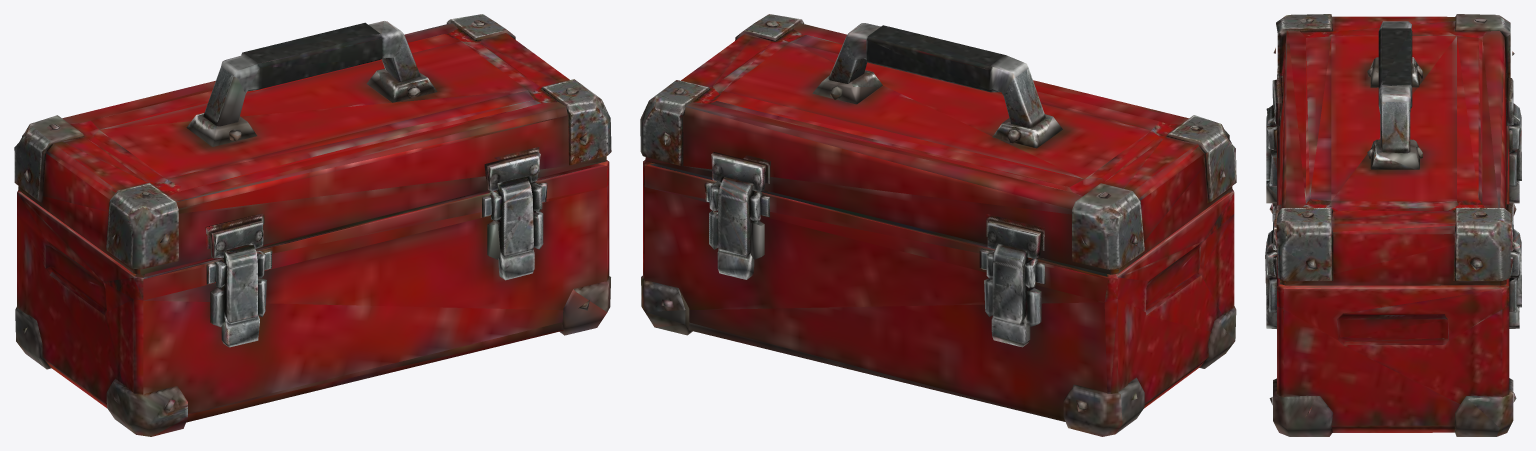
Rendered from salvage-toolbox_prop.glb.
3 views of the same model, side by side, from view 1: azimuth 30°, elevation 25°; view 2: azimuth 150°, elevation 25°; view 3: azimuth 270°, elevation 25° (orthographic). The views are drawn at different scales.
Visible parts, largest first — view 1: Meshy_AI_toolbox_prop_3d_20261028_texture; view 2: Meshy_AI_toolbox_prop_3d_20261028_texture; view 3: Meshy_AI_toolbox_prop_3d_20261028_texture.
Boxes of the visible parts, left/top/right/bottom form: Meshy_AI_toolbox_prop_3d_20261028_texture: left=14, top=14, right=611, bottom=436; Meshy_AI_toolbox_prop_3d_20261028_texture: left=640, top=14, right=1236, bottom=436; Meshy_AI_toolbox_prop_3d_20261028_texture: left=1265, top=14, right=1521, bottom=436.
Bounding box in the file's own units: 0.6 × 0.3452 × 0.2925.
1 material, 1 textured.
